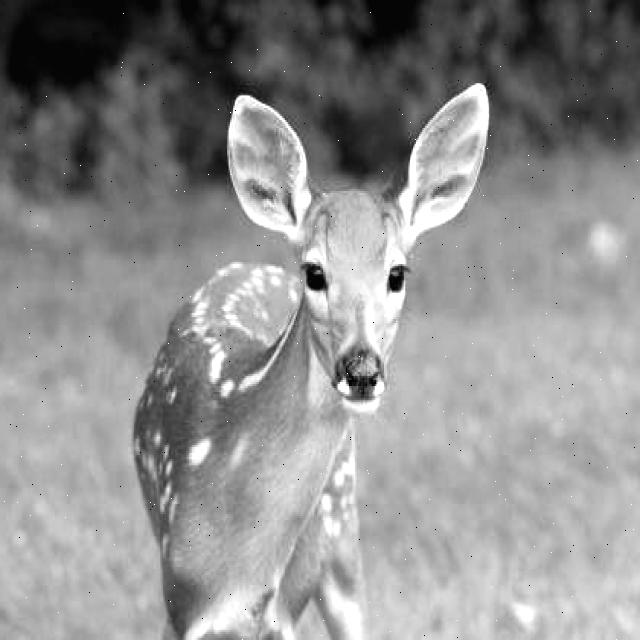deer: (141, 75, 508, 443)
